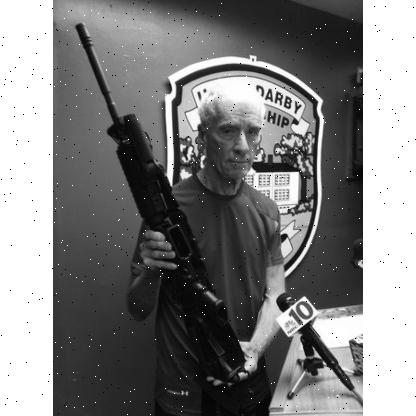gun: (75, 22, 272, 414)
